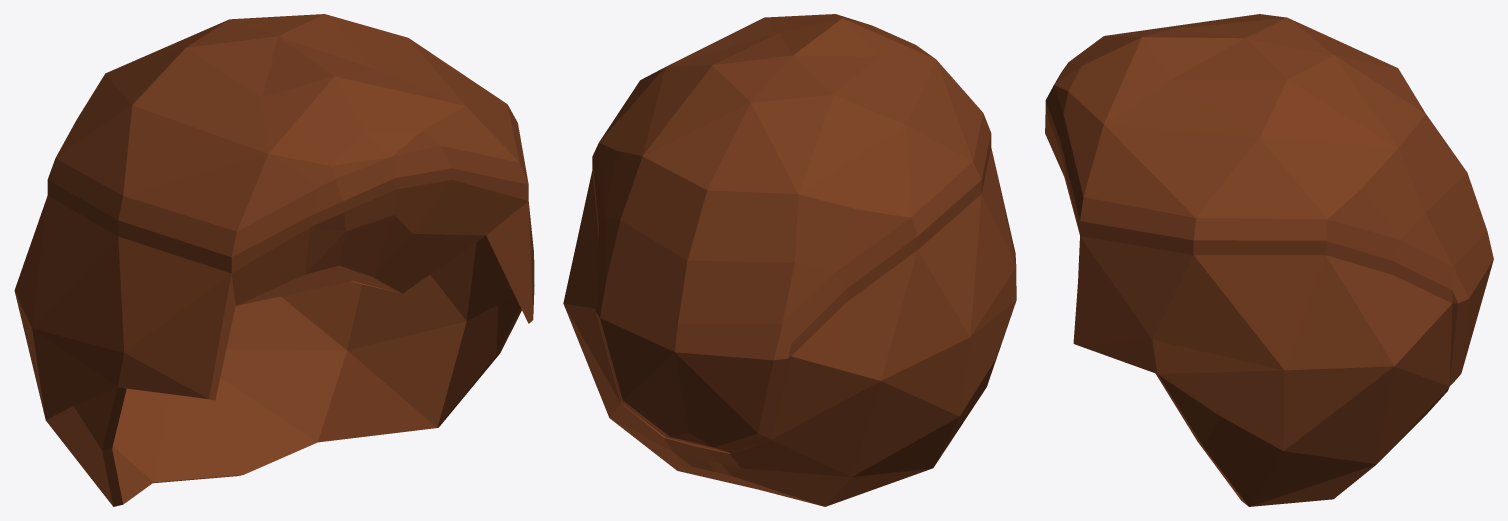
Rendered from HairCut4.fbx.
3 views of the same model, side by side, from view 1: azimuth 30°, elevation 25°; view 2: azimuth 150°, elevation 25°; view 3: azimuth 270°, elevation 25° (orthographic). The views are drawn at different scales.
Visible parts, largest first — view 1: characterBase.001; view 2: characterBase.001; view 3: characterBase.001.
Boxes of the visible parts, left/top/right/bottom form: characterBase.001: left=14, top=14, right=534, bottom=506; characterBase.001: left=563, top=14, right=1016, bottom=506; characterBase.001: left=1045, top=14, right=1493, bottom=506.
Bounding box in the file's own units: 61.5 × 61.5 × 58.11.
